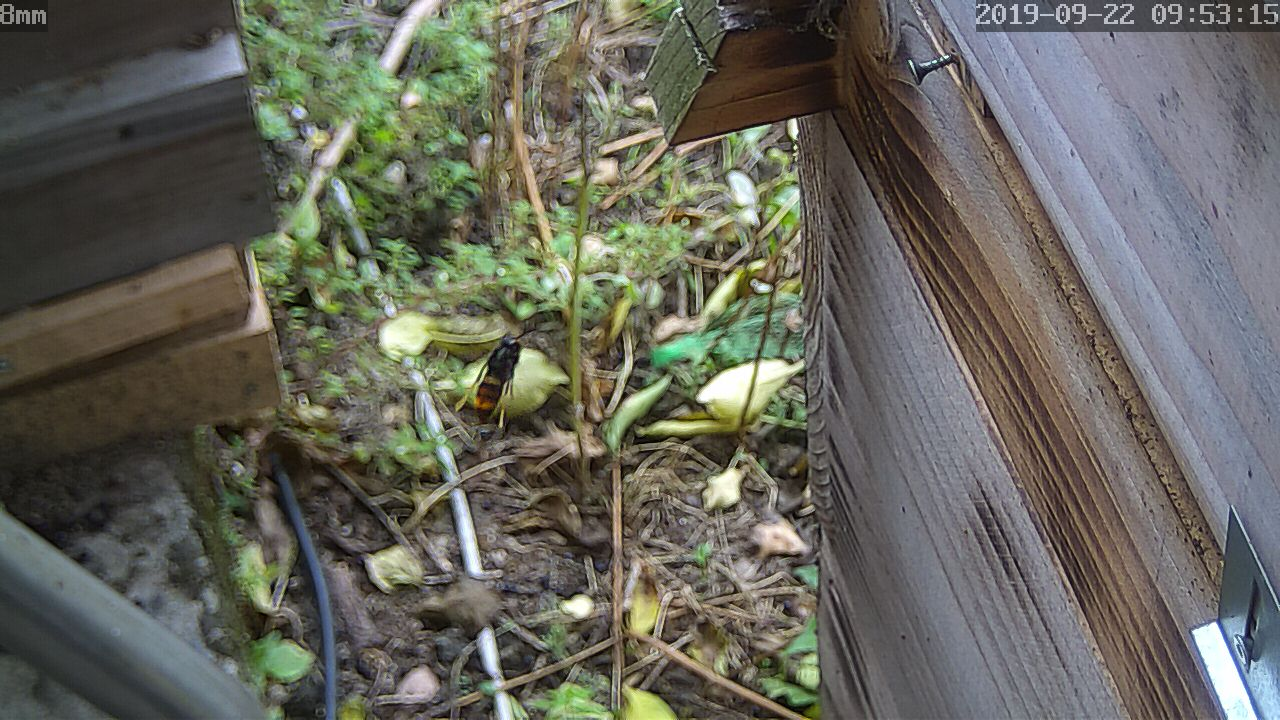hornet: (460, 330, 533, 430)
